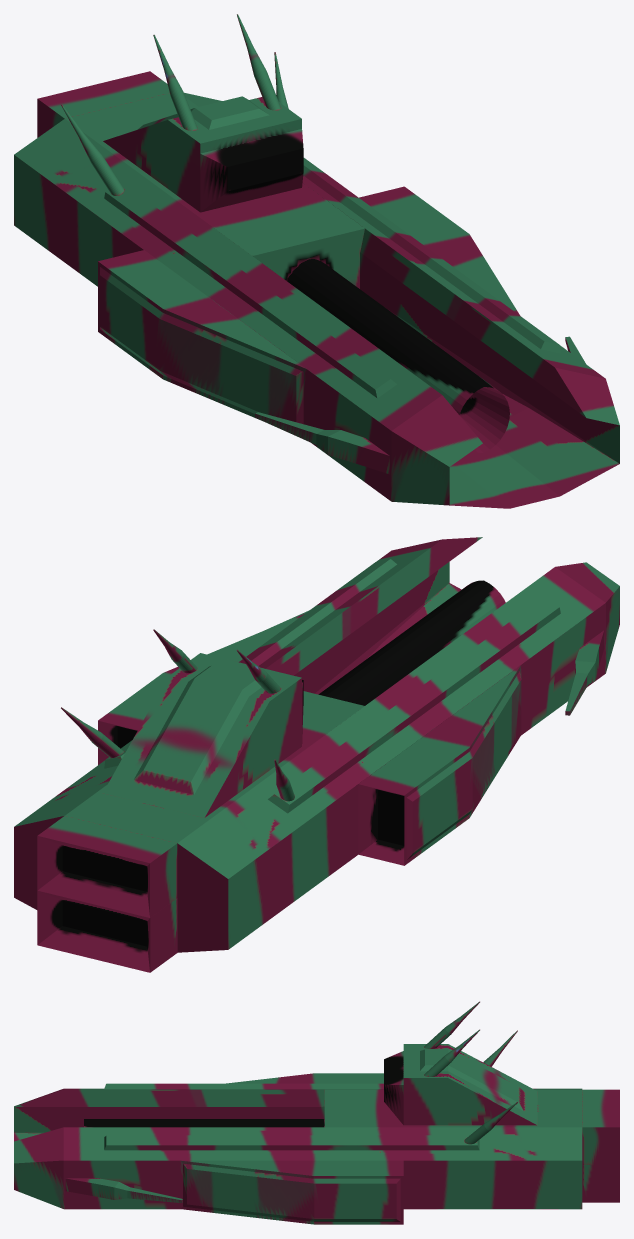
Rendered from RedforCorvette2.0.fbx.
3 views of the same model, one above another, from view 1: azimuth 30°, elevation 25°; view 2: azimuth 150°, elevation 25°; view 3: azimuth 270°, elevation 25° (orthographic). The views are drawn at different scales.
Visible parts, largest first — view 1: RedforCorvette; view 2: RedforCorvette; view 3: RedforCorvette.
Part boxes in pixels (x1,y1,x2,y2): RedforCorvette: (14, 14, 619, 508); RedforCorvette: (14, 537, 619, 972); RedforCorvette: (14, 1001, 619, 1224).
Bounding box in the file's own units: 532 × 409 × 1290.
1 material, 1 textured.
